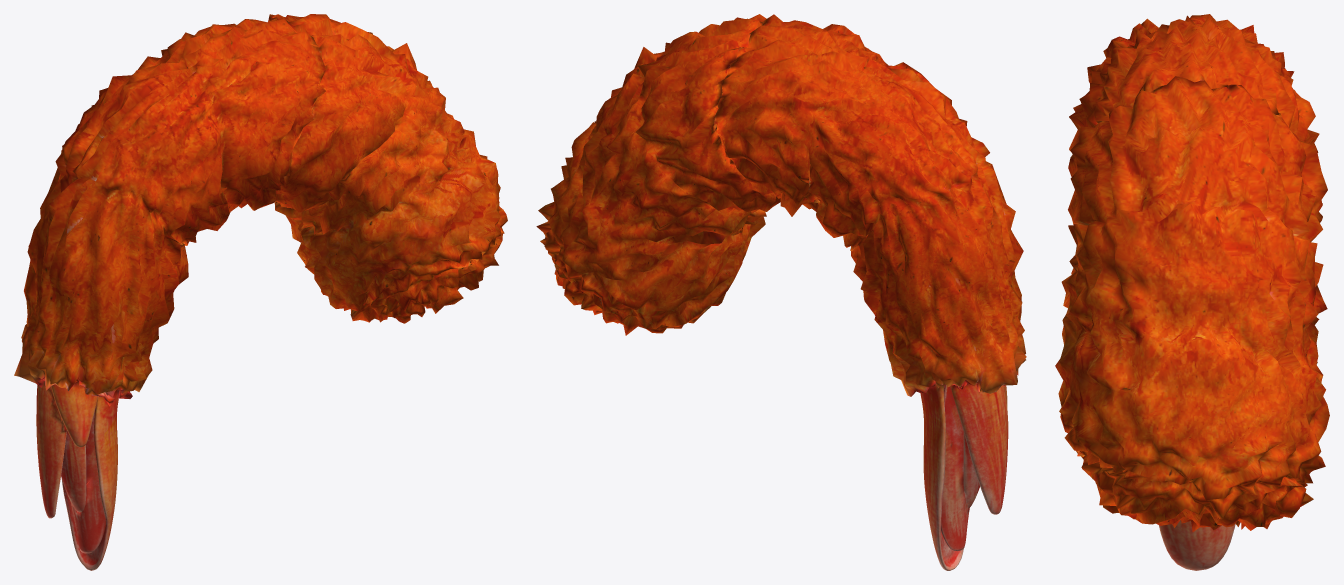
File: shrimp-fried.glb
3 renders of one model, left to right at view 1: azimuth 30°, elevation 25°; view 2: azimuth 150°, elevation 25°; view 3: azimuth 270°, elevation 25°, orthographic. The views are drawn at different scales.
Visible parts, largest first — view 1: fried.final; view 2: fried.final; view 3: fried.final.
Boxes of the visible parts, x1,y1,x2,y2 form: fried.final: (14,14,507,570); fried.final: (536,14,1026,570); fried.final: (1055,14,1329,570).
Bounding box in the file's own units: 4.13 × 4.19 × 1.66.
1 material, 1 textured.
